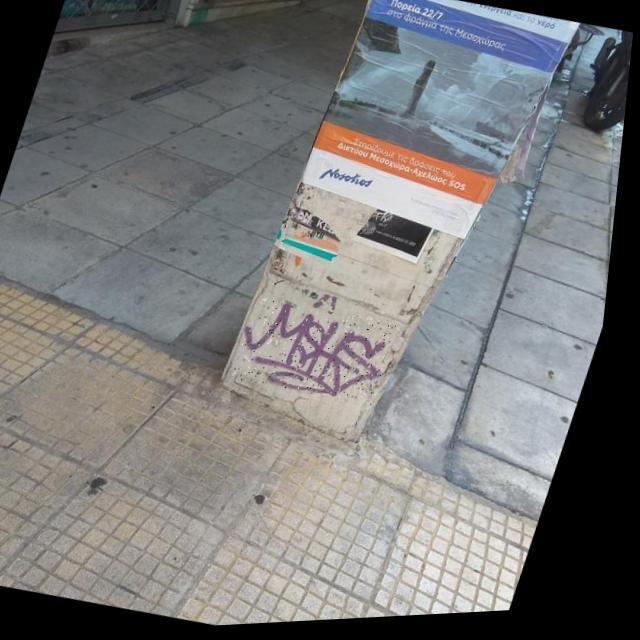-: (236, 294, 409, 415), (323, 0, 360, 4)
